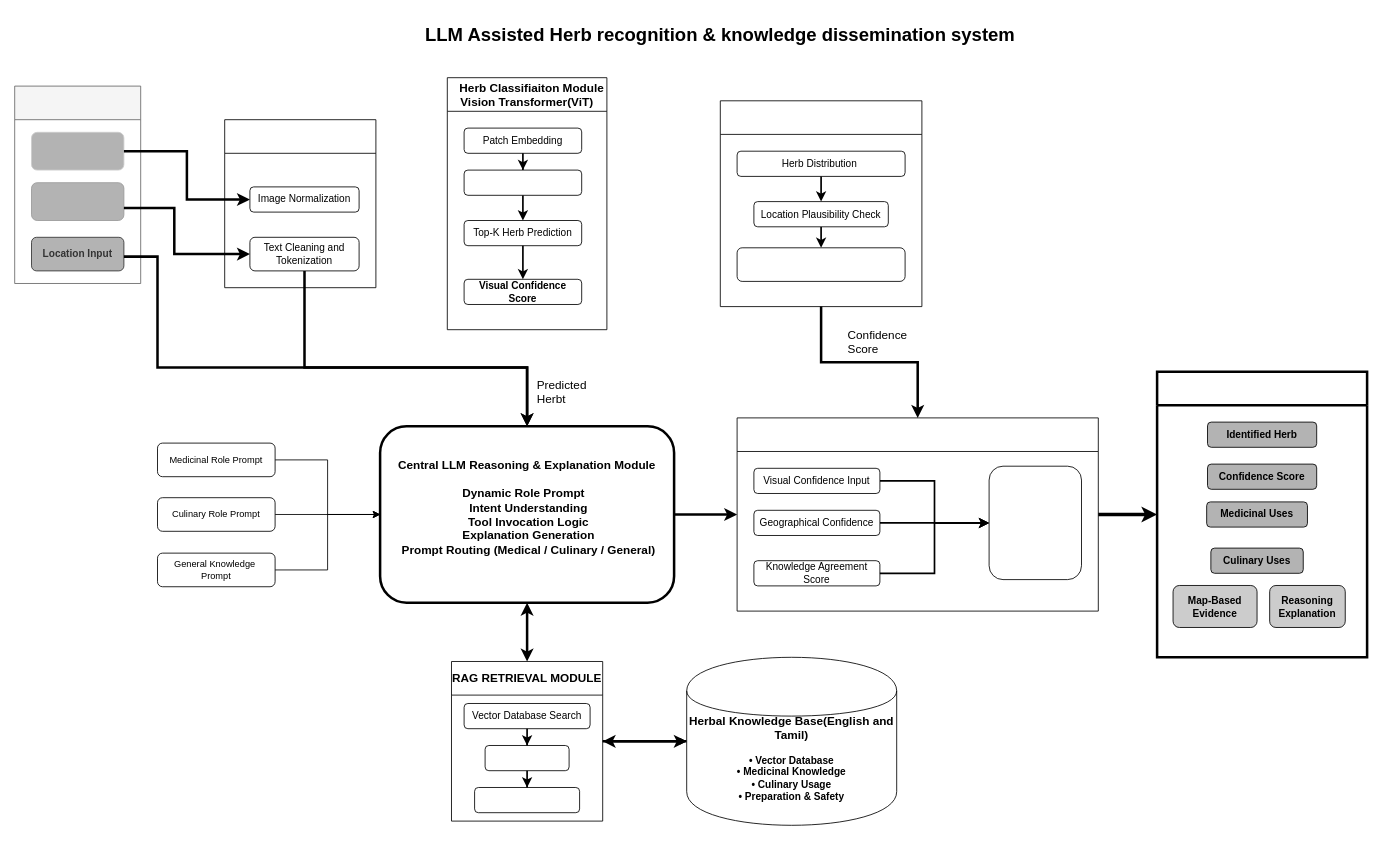
Image size: 1383x845. Some labels were removed from this diagram. The shapes that lost their labels are listed below. From the top down, each one's box as (x1, y1, x2, y2) in pixels, then its label:
(31, 131, 124, 170): Plant Image Input
(14, 85, 141, 284): MULTIMODAL INPUT
(31, 182, 124, 220): Text Query Input
(463, 169, 582, 195): Self-Attention Encoding
(224, 119, 376, 288): INPUT PREPROCESSING
(719, 100, 922, 307): GEOSPATIAL VALIDATION MODULE
(736, 247, 905, 281): Geographical Confidence Score
(736, 417, 1098, 611): CONFIDENCE FUSION ENGINE
(988, 465, 1082, 580): Final Confidence Score Computation
(1155, 370, 1368, 658): FINAL EXPLAINABLE OUTPUT
(484, 745, 569, 771): Context Filtering
(474, 787, 580, 813): Evidence Selection
